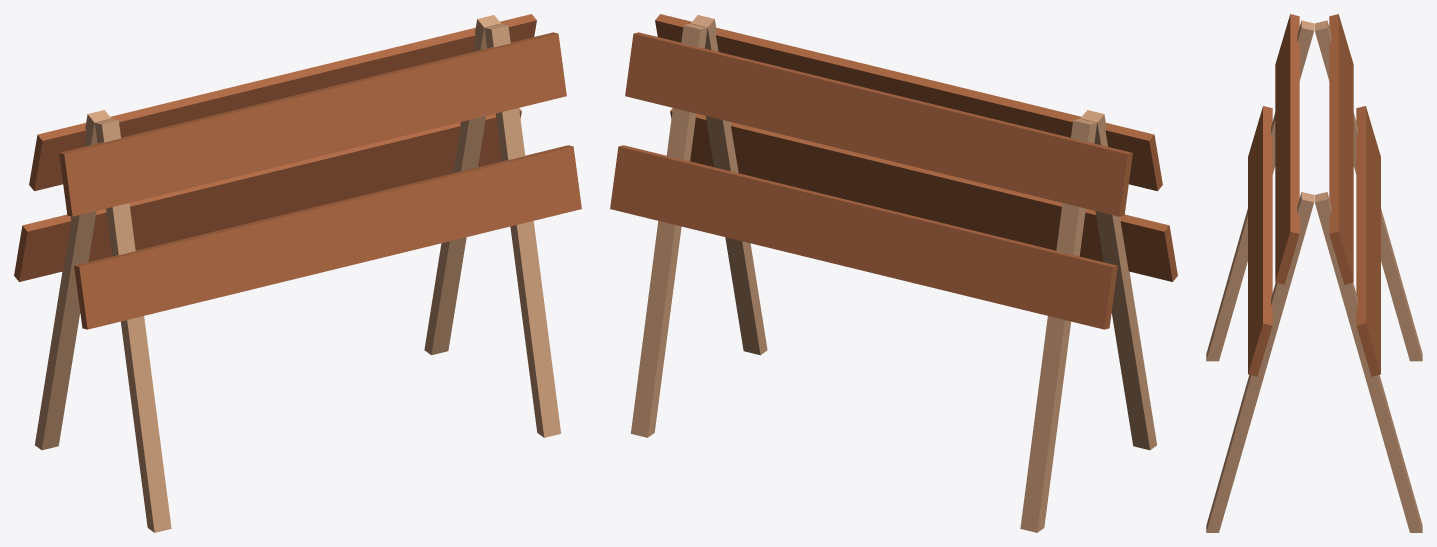
The model's file is RoadBlock_01a.fbx.
3 renders of one model, left to right at view 1: azimuth 30°, elevation 25°; view 2: azimuth 150°, elevation 25°; view 3: azimuth 270°, elevation 25°, orthographic. The views are drawn at different scales.
Parts seen in each view (by area): view 1: RoadBlock_01a; view 2: RoadBlock_01a; view 3: RoadBlock_01a.
Boxes of the visible parts, <box> form: RoadBlock_01a: <box>14,14,581,532</box>; RoadBlock_01a: <box>610,14,1177,532</box>; RoadBlock_01a: <box>1206,14,1422,532</box>.
Size of the model in its own units: 484 by 346 by 203.
